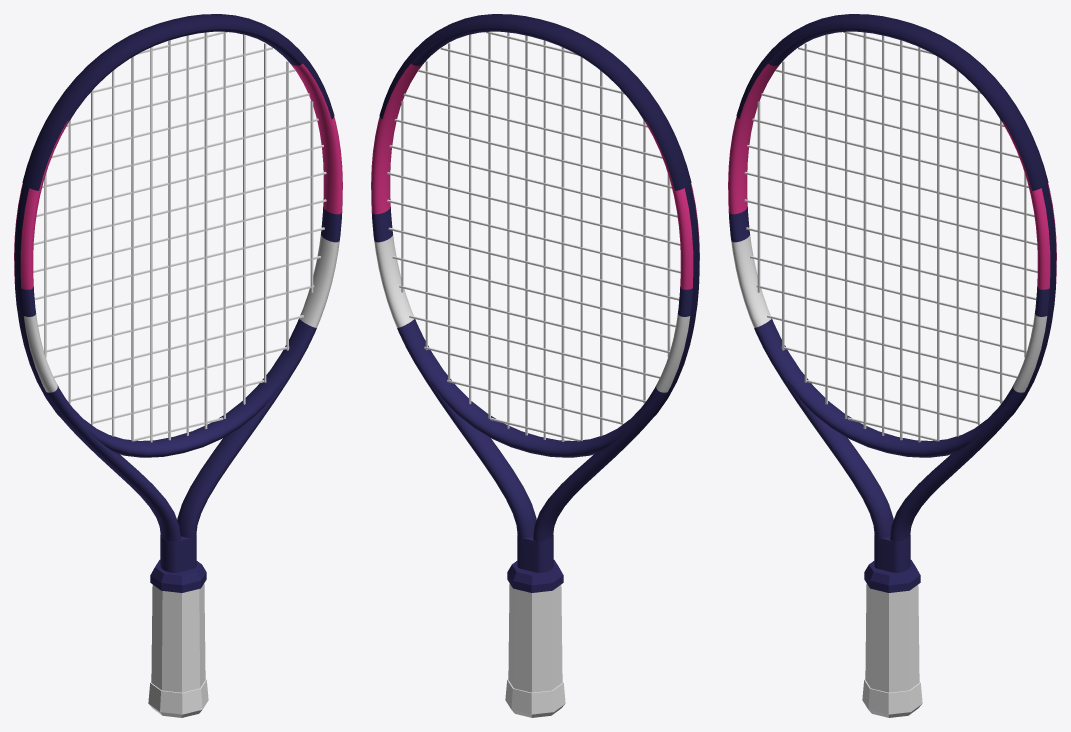
Rendered from babolat-b-fly-21-2023.glb.
3 renders of one model, left to right at view 1: azimuth 30°, elevation 25°; view 2: azimuth 150°, elevation 25°; view 3: azimuth 330°, elevation 25°, orthographic.
Parts seen in each view (by area): view 1: frame, strings_mains, strings_crosses, bumper, grip, butt_cap, grommets, collar; view 2: frame, strings_mains, strings_crosses, bumper, grip, butt_cap, grommets, collar; view 3: frame, strings_mains, strings_crosses, bumper, grip, butt_cap, grommets, collar.
Part boxes in pixels (x1,y1,x2,y2): frame: (14,28,342,572); strings_mains: (44,31,313,442); strings_crosses: (33,31,326,441); bumper: (22,14,334,190); grip: (151,583,205,692); butt_cap: (148,679,208,717); grommets: (14,184,61,416); collar: (150,560,206,592); frame: (371,28,699,572); strings_mains: (401,31,670,441); strings_crosses: (387,31,680,441); bumper: (379,14,691,190); grip: (508,583,562,692); butt_cap: (505,679,565,717); grommets: (652,184,699,416); collar: (507,560,563,592); frame: (728,28,1056,572); strings_mains: (757,31,1026,442); strings_crosses: (744,31,1037,441); bumper: (736,14,1048,190); grip: (865,583,919,692); butt_cap: (862,679,922,717); grommets: (1009,184,1056,416); collar: (864,560,920,592).
Size of the model in its own units: 0.2633 by 0.5337 by 0.0396.
